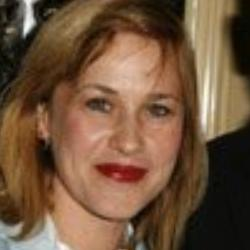face: (3, 2, 218, 242)
